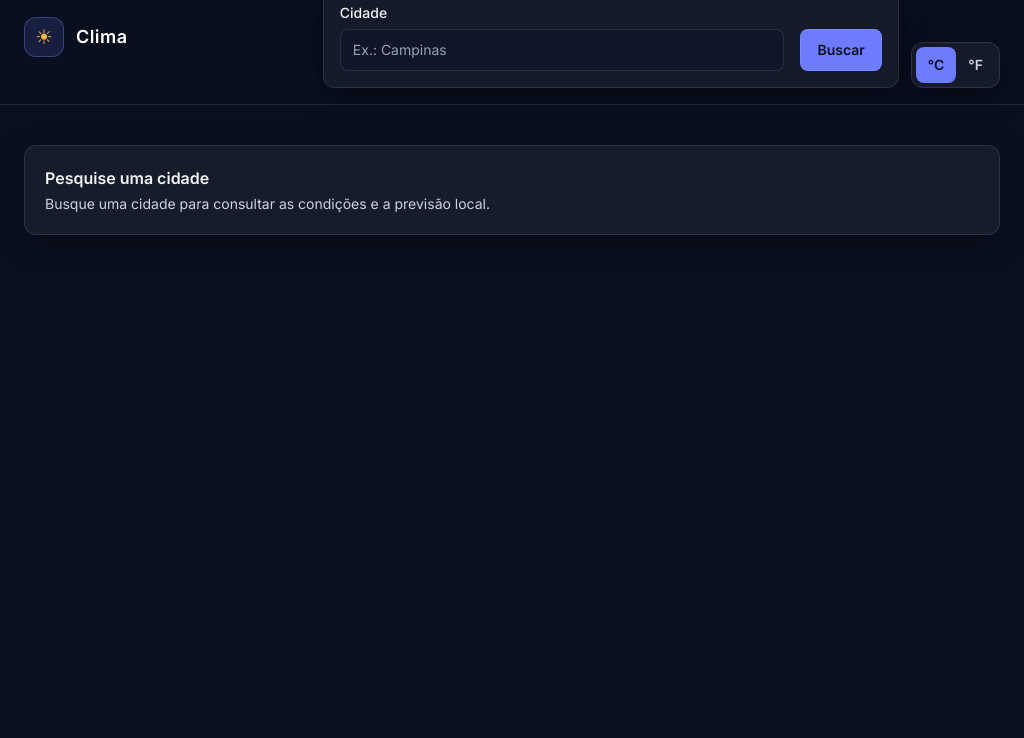
App › shows all geocoding candidates and lets the user select another city
This screenshot has width=1024, height=738.
Type "Cur" into the search field labelled "Cidade".
click(562, 50); type("Cur")  # box [340,29,784,71]
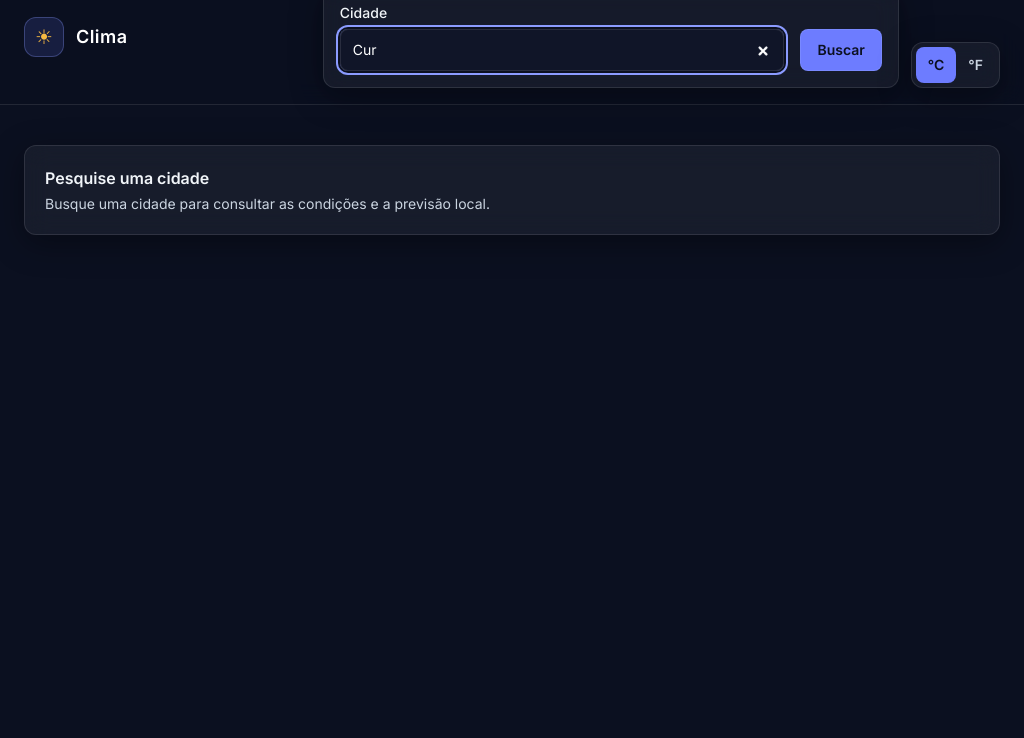
Click the button "Buscar".
click(841, 50)  # box [800,29,882,71]
(page scrolled)
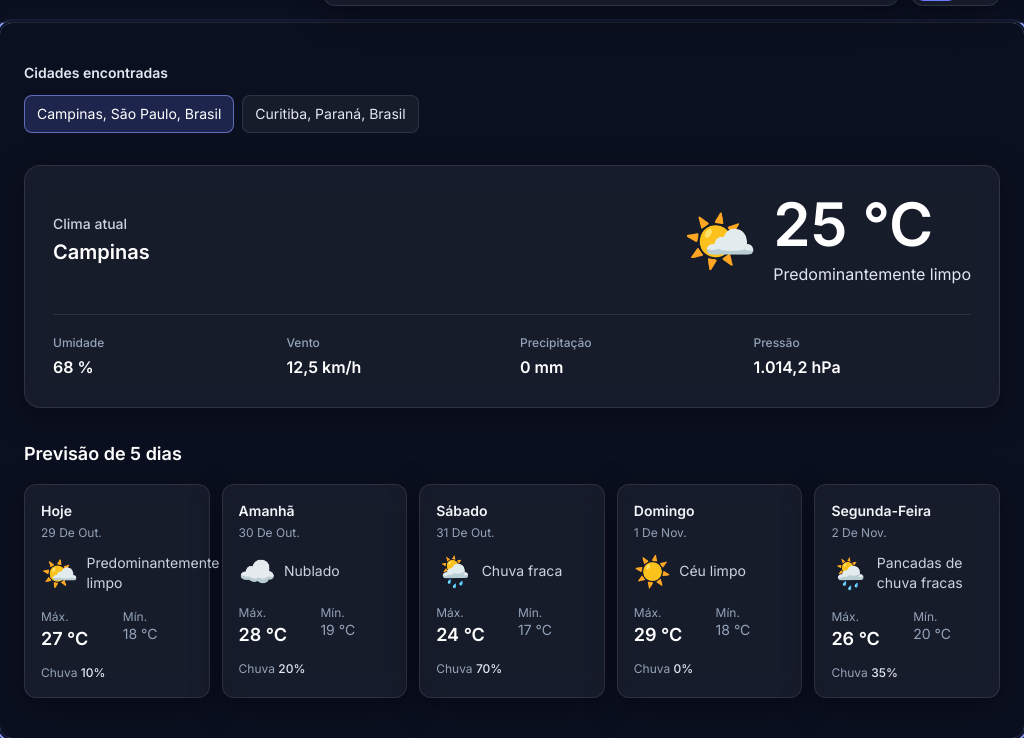
Expected: the text "25 °C" is shown, [773,188,933,260]
Click the button "Curitiba, Paraná, Brasil".
click(330, 114)  # box [242,95,419,133]
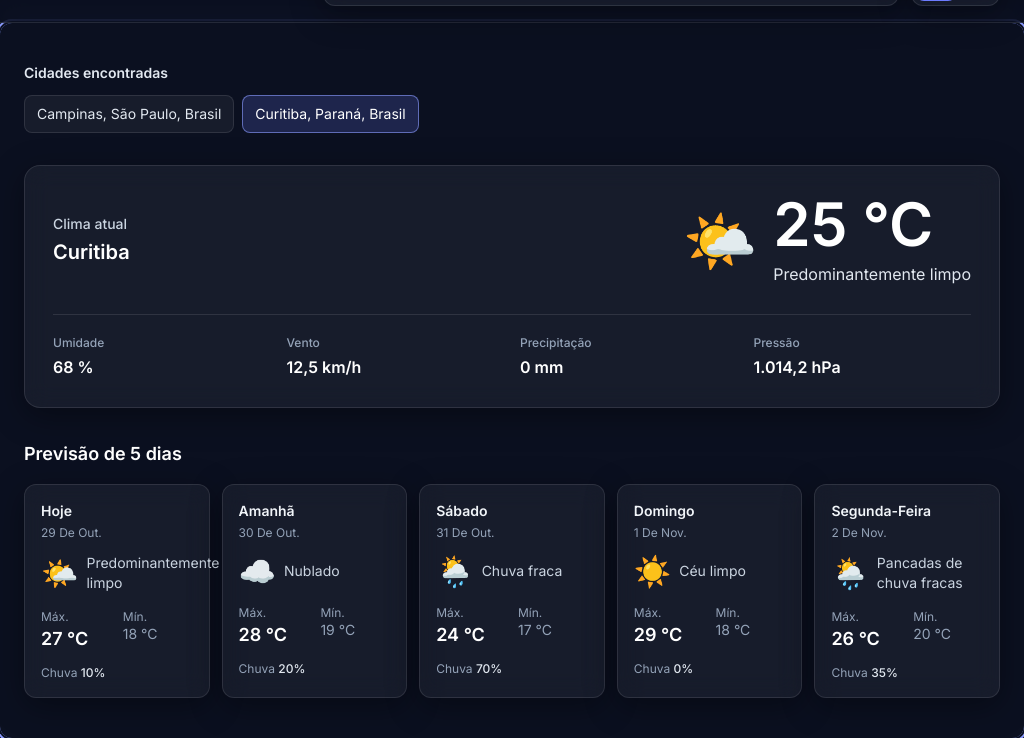
Expected: the heading "Curitiba" is shown, [53,238,130,266]
